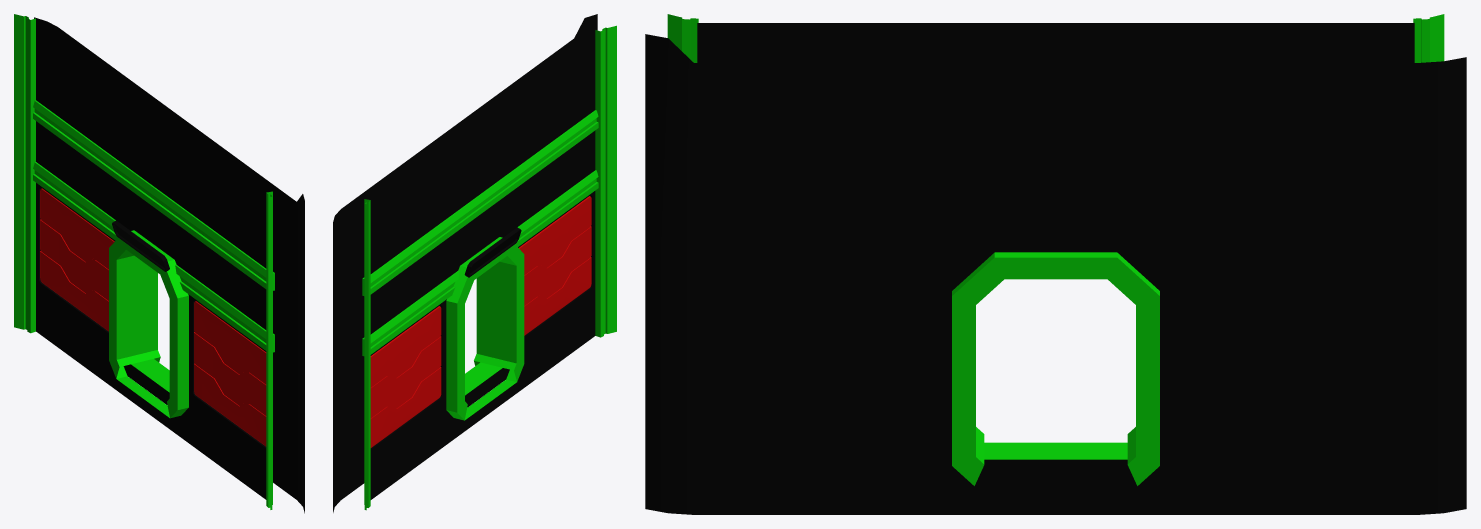
The model's file is SM_Hub_Wall_Doorway.fbx.
3 renders of one model, left to right at view 1: azimuth 30°, elevation 25°; view 2: azimuth 150°, elevation 25°; view 3: azimuth 270°, elevation 25°, orthographic. The views are drawn at different scales.
Parts seen in each view (by area): view 1: SM_Hub_Wall_Doorway; view 2: SM_Hub_Wall_Doorway; view 3: SM_Hub_Wall_Doorway.
Boxes of the visible parts, x1,y1,x2,y2 form: SM_Hub_Wall_Doorway: (14,14,304,513); SM_Hub_Wall_Doorway: (333,14,616,512); SM_Hub_Wall_Doorway: (645,14,1466,514).
Bounding box in the file's own units: 104 × 654 × 1024.
